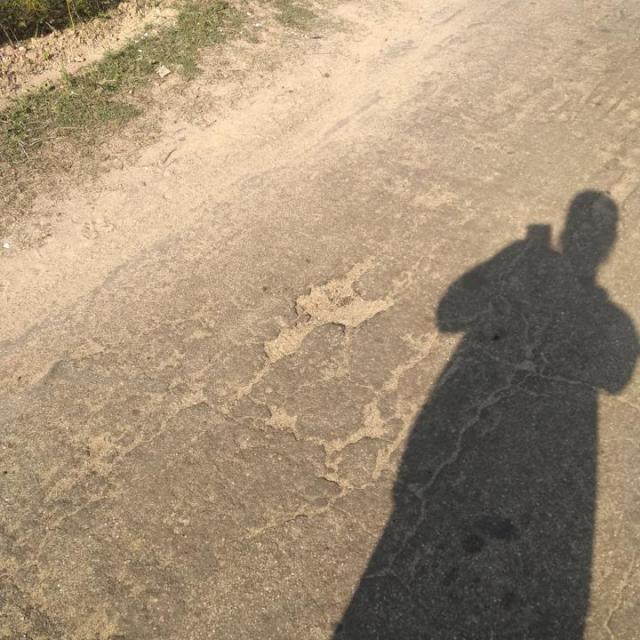Pothole: (261, 263, 395, 364), (264, 403, 302, 436)
